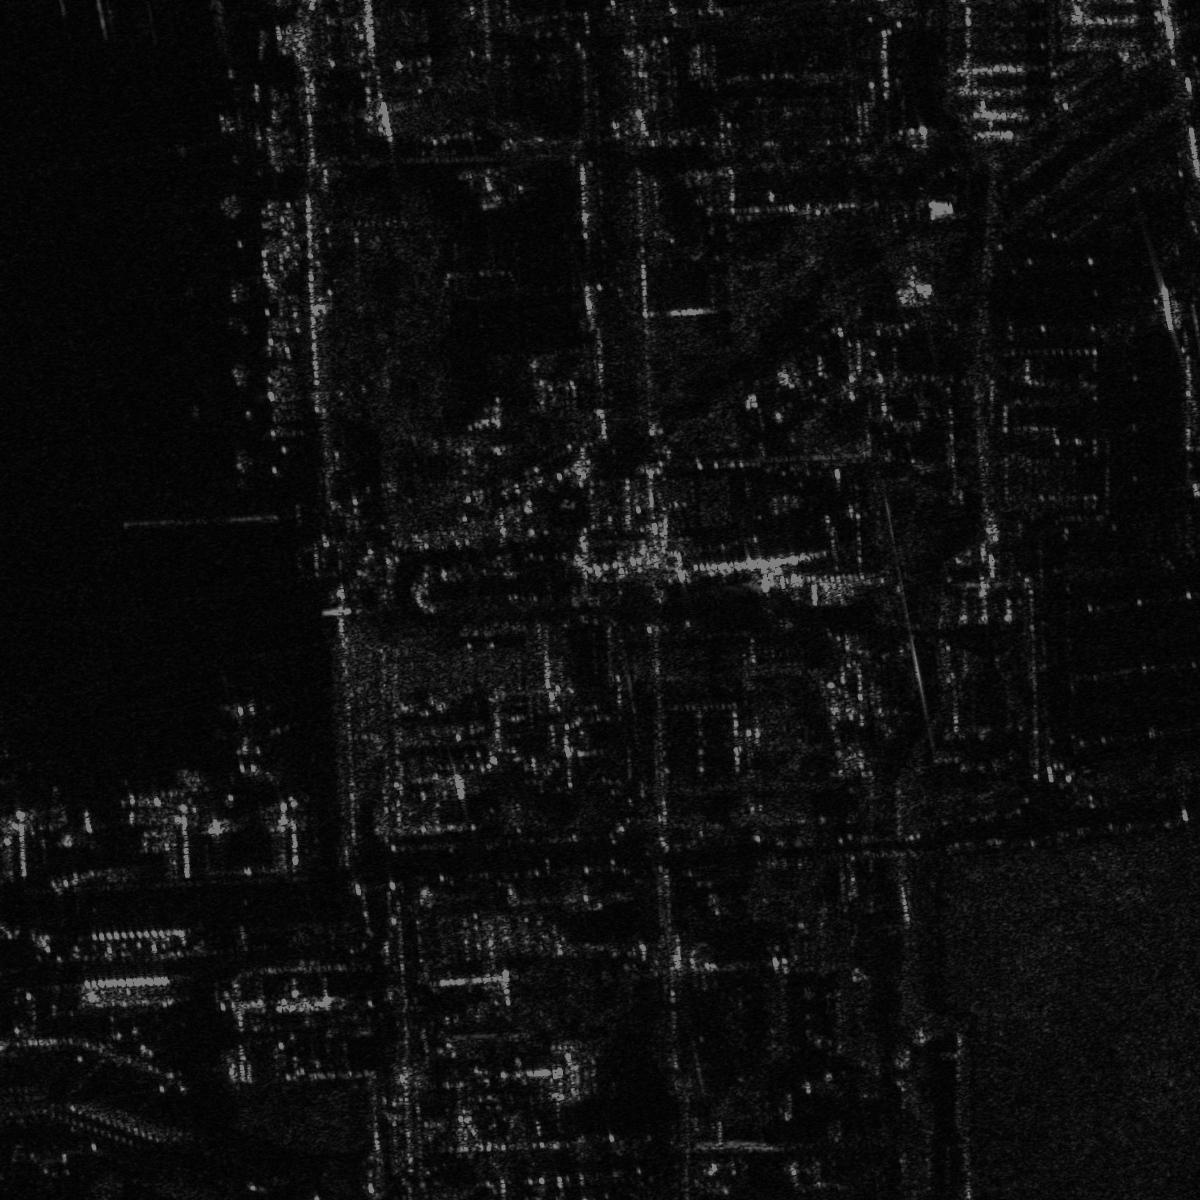A220: (196, 698, 292, 787)
